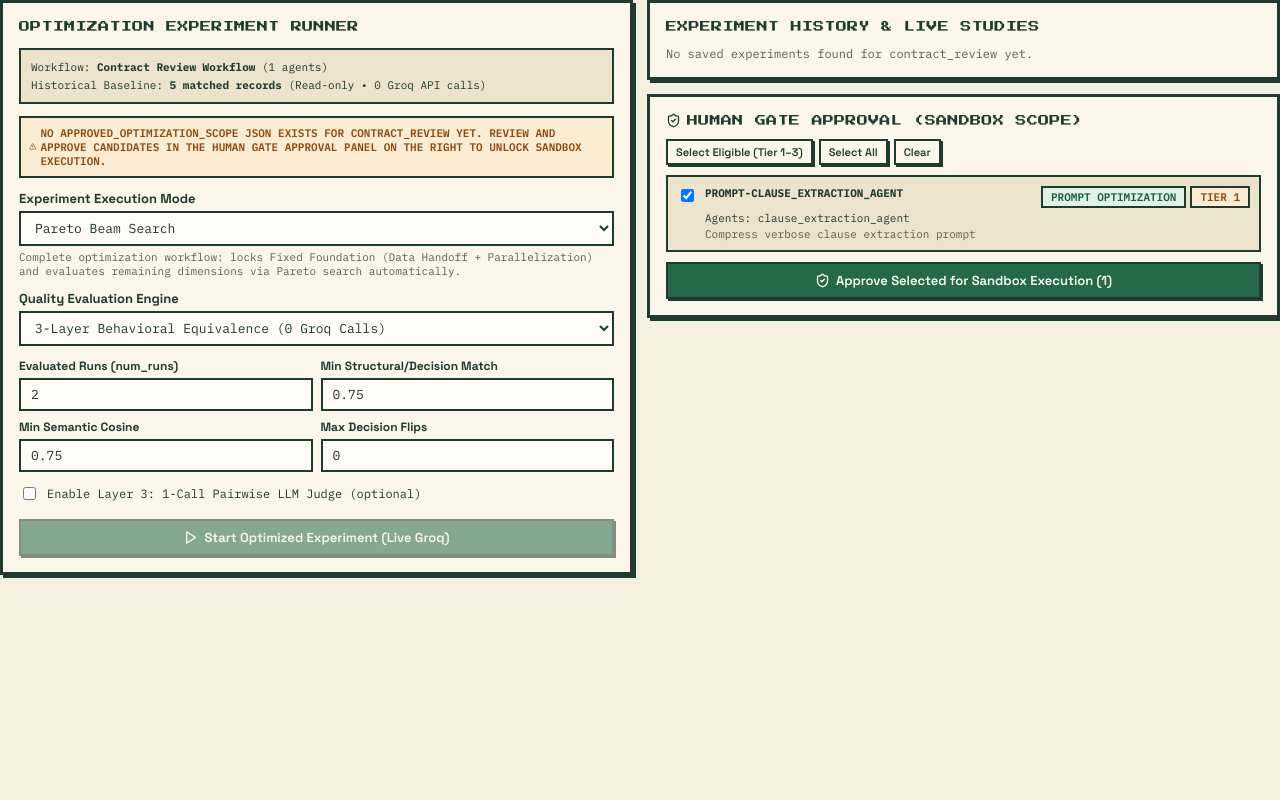
ExperimentsPage execution modes & human gate approval › defaults Quality Evaluation Engine to 3-Layer Behavioral Equivalence and toggles cleanly with RAGAS
This screenshot has width=1280, height=800.
Expected: the text "Min Structural/Decision Match" is shown, [320, 358, 498, 374]
Expected: the text "Min Semantic Cosine" is shown, [19, 418, 139, 434]
Select "RAGAS Retrieval Metrics (Legacy)" in the dropdown labelled "Quality Evaluation Engine". click: (316, 328)
box: [19, 310, 614, 346]
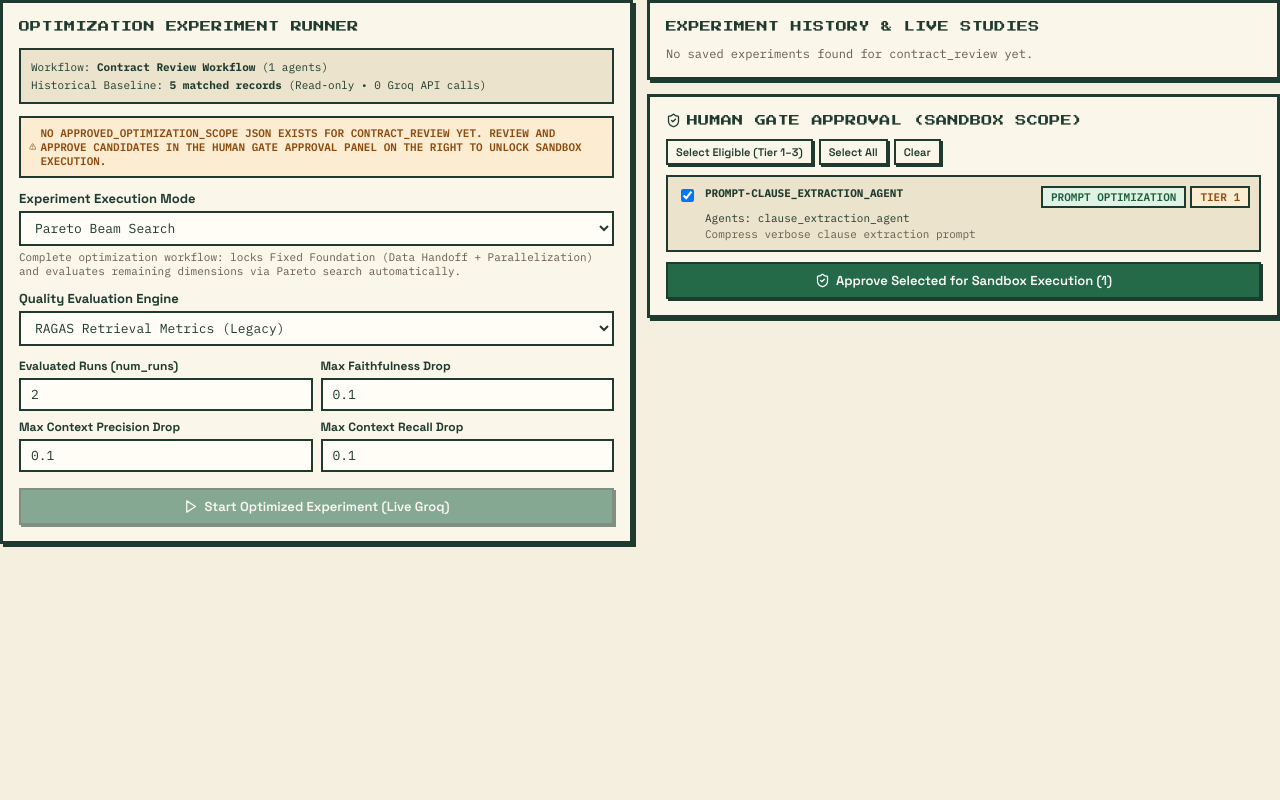
Now the text "Max Faithfulness Drop" is shown, box [320, 358, 451, 374]
